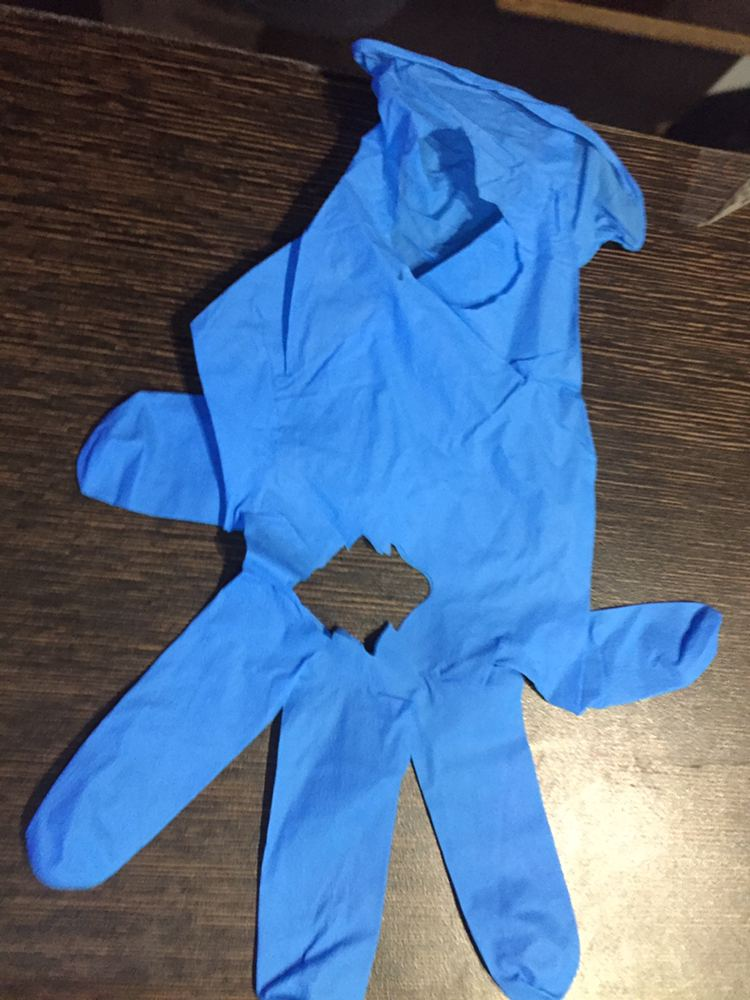defected: (51, 104, 720, 996)
